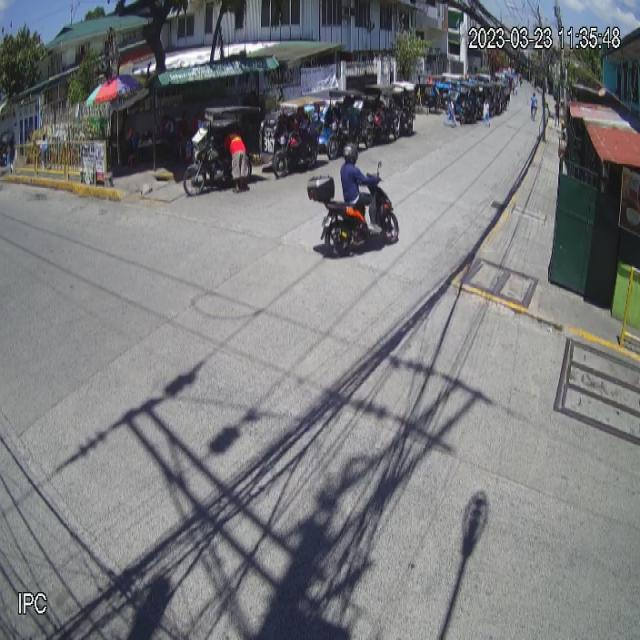Motorcycle: (306, 160, 400, 257)
